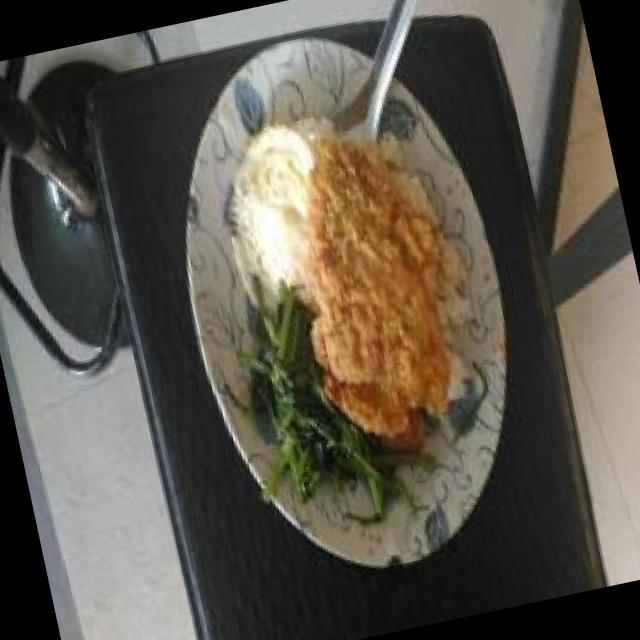fried_chicken: (272, 121, 474, 435)
fried_eggs: (202, 119, 340, 315)
water_spinach: (226, 280, 350, 498)
